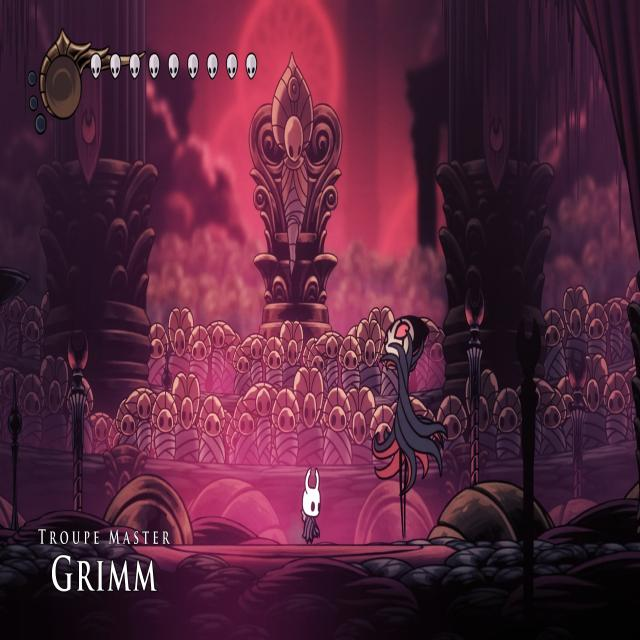Grimm: (376, 307, 450, 543)
Player: (300, 463, 324, 547)
